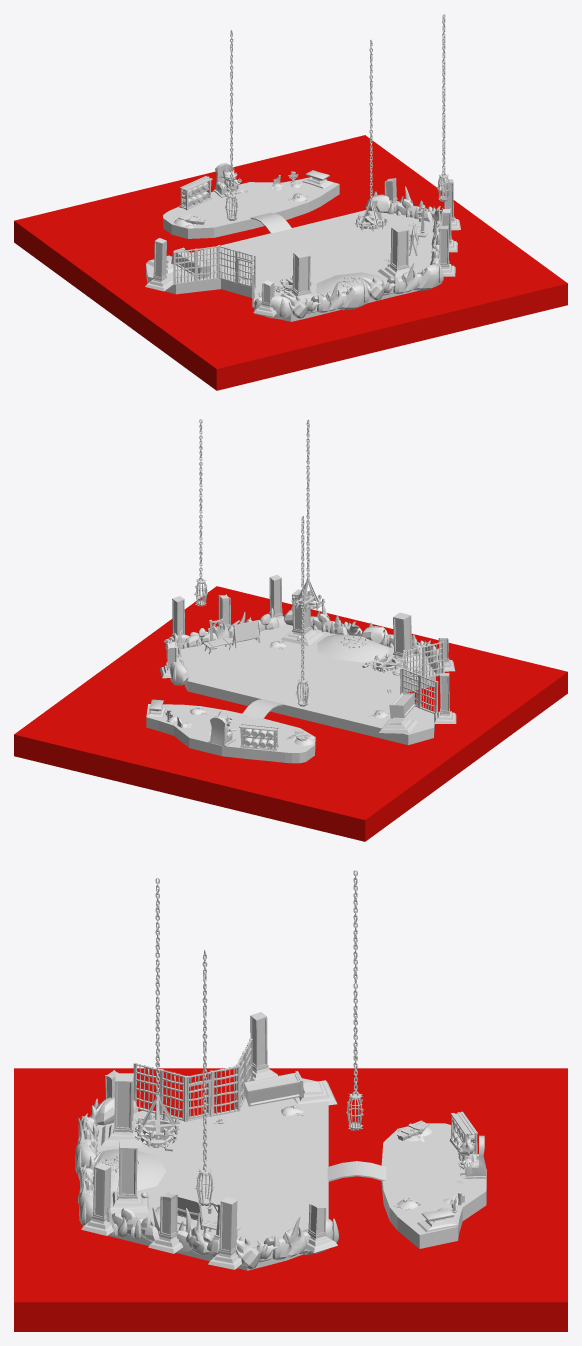
File: Hub_TESTING.fbx
The picture shows the model from 3 angles, top to bottom: view 1: azimuth 30°, elevation 25°; view 2: azimuth 150°, elevation 25°; view 3: azimuth 270°, elevation 25°; orthographic projection. The views are drawn at different scales.
Visible parts, largest first — view 1: Cube.137, Plane.001, Plane, Cube.015, Cube.016, Cube.002, SM_PROP_barrel_shelf_dungeon_01.001, Cube.098, SM_PROP_bars_wall_dungeon_01.004, SM_PROP_bars_wall_dungeon_01.003, Cube.078, SM_PROP_chandelier_dungeon_01 (+4 smaller); view 2: Cube.137, Plane.001, Plane, Cube.002, Cube.016, SM_PROP_barrel_shelf_dungeon_01.001, Cube.015, Cube.098, SM_PROP_bars_wall_dungeon_01, Cube.078, SM_PROP_bars_wall_dungeon_01.004, Cube.076 (+1 smaller); view 3: Cube.137, Plane.001, Plane, Cube.015, Cube.016, Cube.028, Cube.002, Cube.076, Cube.078, Cube.077, Cube.098, SM_PROP_chandelier_dungeon_01 (+8 smaller).
Boxes of the visible parts, box(x1,y1,x2,y2) form: Cube.137: box(14, 135, 567, 390); Plane.001: box(146, 210, 433, 321); Plane: box(163, 177, 339, 238); Cube.015: box(378, 226, 417, 279); Cube.016: box(280, 251, 315, 305); Cube.002: box(316, 272, 386, 296); SM_PROP_barrel_shelf_dungeon_01.001: box(179, 176, 212, 210); Cube.098: box(145, 238, 173, 291); SM_PROP_bars_wall_dungeon_01.004: box(173, 248, 196, 284); SM_PROP_bars_wall_dungeon_01.003: box(196, 246, 218, 281); Cube.078: box(438, 225, 455, 276); SM_PROP_chandelier_dungeon_01: box(354, 198, 387, 231); Cube.137: box(14, 586, 567, 841); Plane.001: box(180, 624, 435, 745); Plane: box(146, 704, 315, 763); Cube.002: box(317, 634, 388, 662); Cube.016: box(382, 612, 422, 669); SM_PROP_barrel_shelf_dungeon_01.001: box(239, 723, 278, 750); Cube.015: box(281, 589, 323, 646); Cube.098: box(434, 673, 456, 723); SM_PROP_bars_wall_dungeon_01: box(423, 641, 444, 679); Cube.078: box(269, 574, 286, 625); SM_PROP_bars_wall_dungeon_01.004: box(418, 675, 438, 713); Cube.076: box(163, 596, 185, 646); Cube.137: box(14, 1068, 567, 1331); Plane.001: box(97, 1078, 328, 1270); Plane: box(381, 1123, 486, 1248); Cube.015: box(110, 1139, 149, 1212); Cube.016: box(101, 1073, 144, 1146); Cube.028: box(244, 1071, 303, 1106); Cube.002: box(98, 1149, 166, 1191); Cube.076: box(208, 1196, 241, 1269); Cube.078: box(81, 1162, 114, 1235); Cube.077: box(148, 1192, 182, 1253); Cube.098: box(250, 1012, 277, 1080); SM_PROP_chandelier_dungeon_01: box(136, 1094, 179, 1141).
Size of the model in its own units: 3385 by 3385 by 2414.
